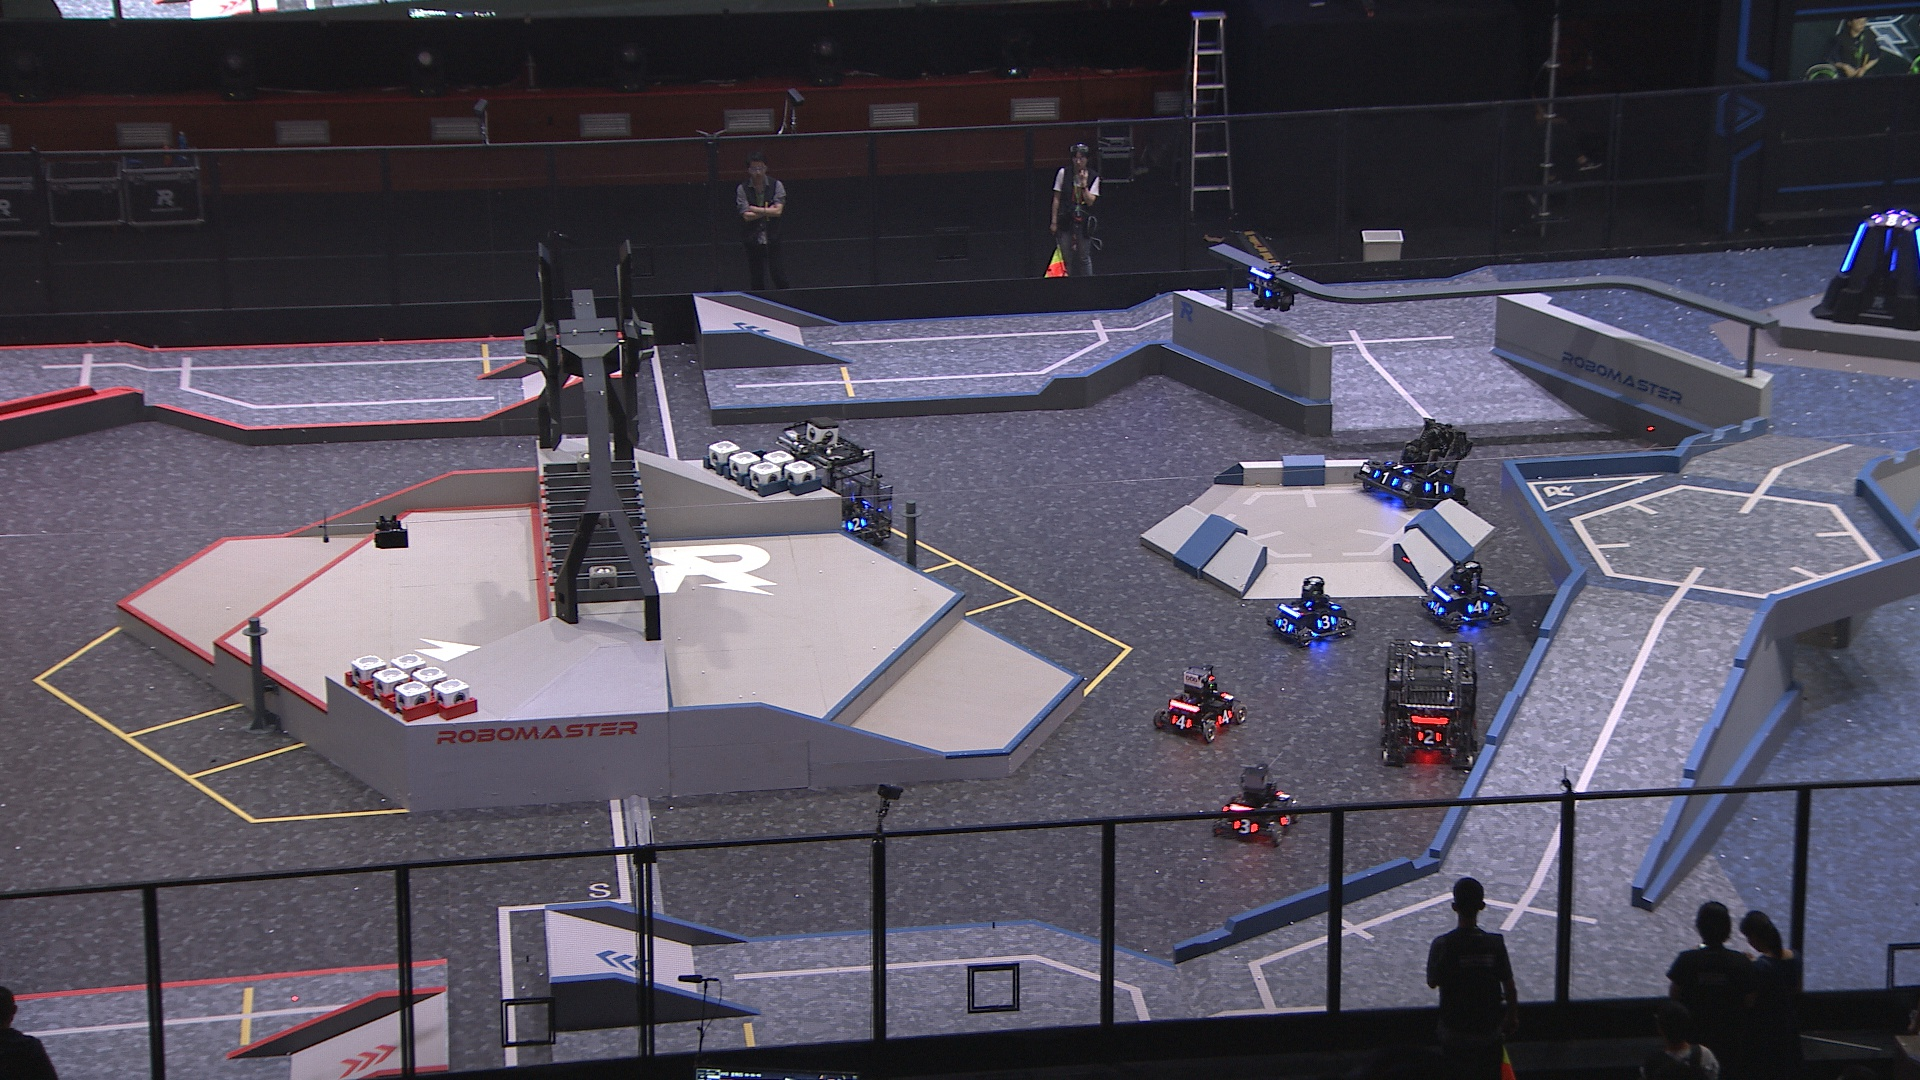armor: (1840, 222, 1865, 276), (1370, 465, 1400, 488), (1466, 597, 1491, 618), (1418, 727, 1444, 746), (1247, 281, 1273, 301), (1386, 460, 1415, 476), (1234, 818, 1258, 836), (845, 516, 870, 533), (1423, 480, 1452, 495), (1273, 808, 1292, 828), (1427, 597, 1448, 616), (1171, 713, 1193, 731), (1215, 708, 1234, 727), (1883, 228, 1896, 256), (1476, 579, 1495, 597), (1315, 615, 1338, 629), (1275, 617, 1294, 636), (1271, 785, 1288, 802)
base: (1807, 206, 1920, 335)
car: (774, 422, 898, 551), (1379, 636, 1484, 775), (1353, 415, 1481, 506), (1211, 760, 1309, 845), (1150, 665, 1247, 744), (1262, 571, 1357, 650), (1420, 556, 1515, 629)
ignore: (1870, 211, 1912, 225)
watcher: (1244, 258, 1302, 313)
